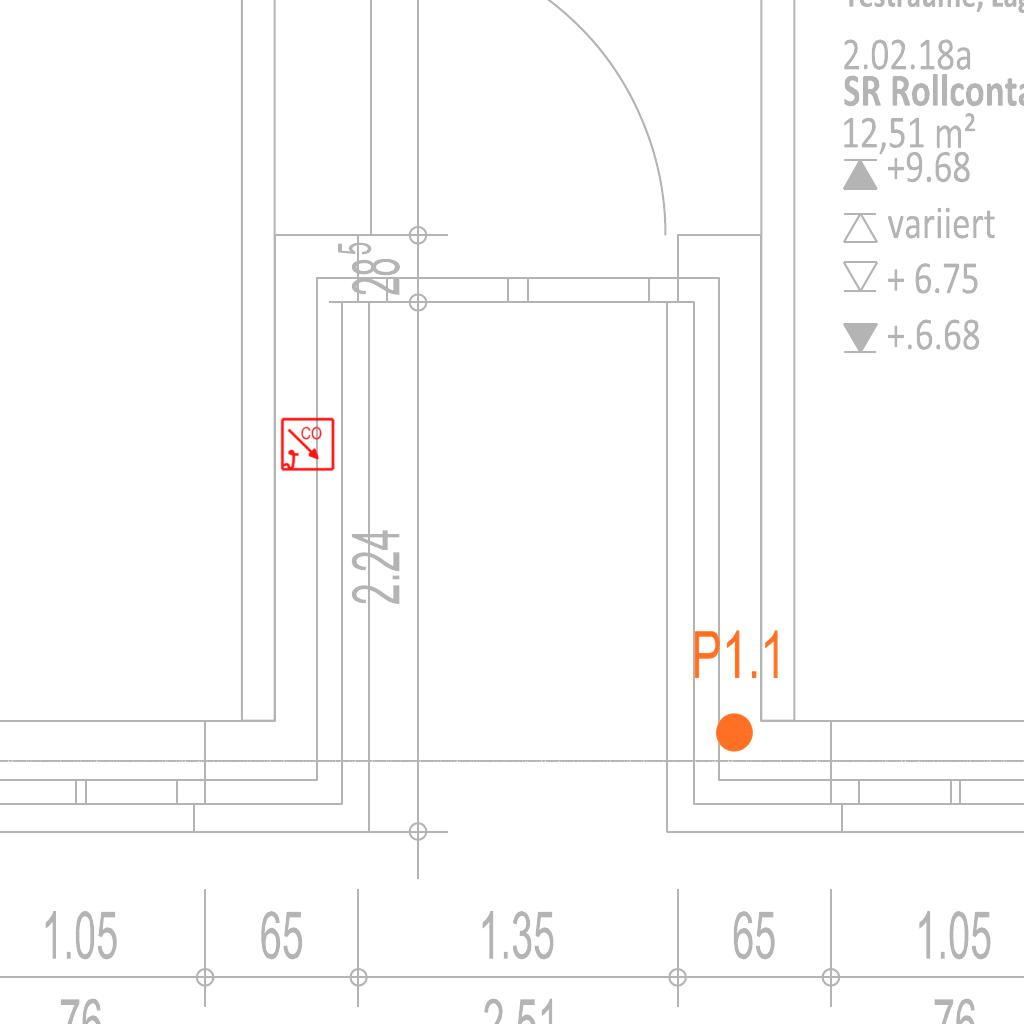Downlight_LED_Einbauleuchten_Flur: (691, 627, 784, 755)
ROA_Rauchmelder_optisch_mit_Signalgeber_(Sockelsirene): (280, 417, 336, 473)
